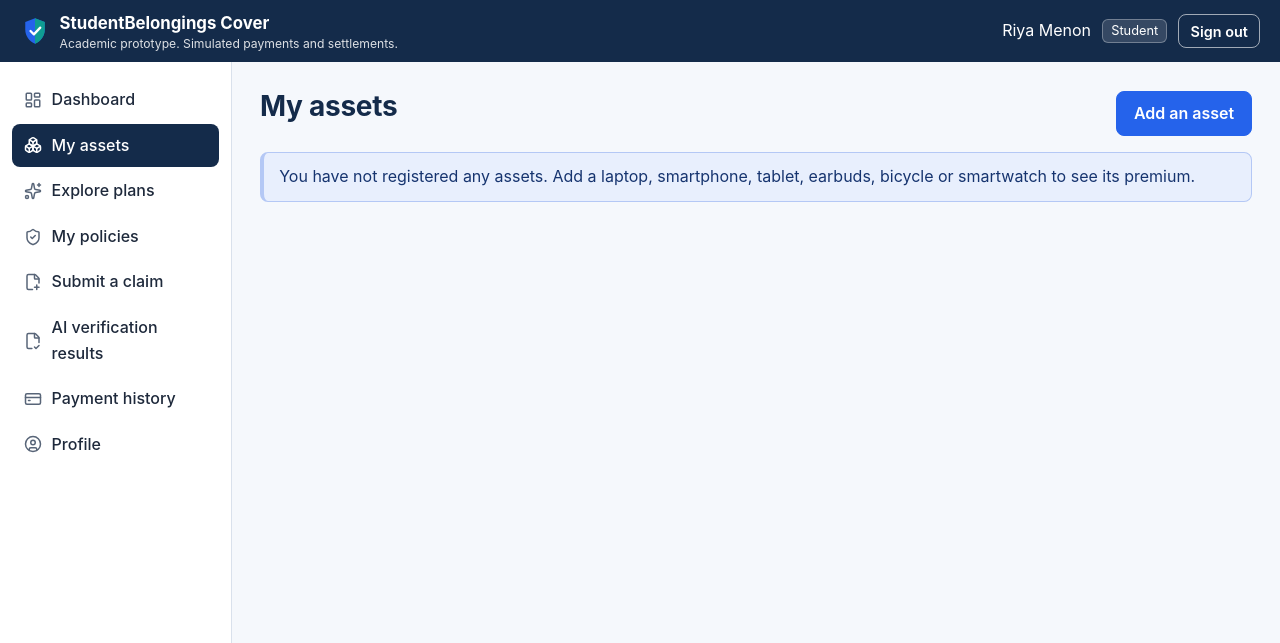
Scenario: asset registration and eligibility › explains why an asset below the minimum value is not eligible and blocks registration
Click the button "Add an asset" at (1184, 113), box [1116,91,1252,136]
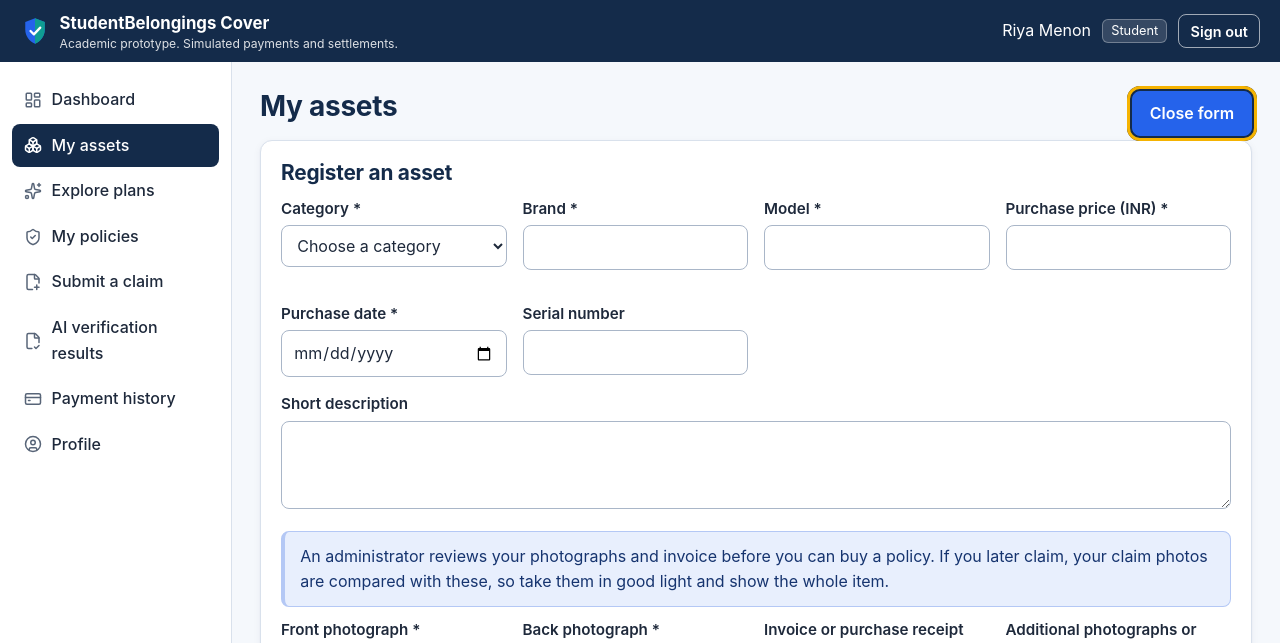
Select "Earbuds" in the dropdown labelled "Category *" at (394, 246), box [281,225,506,267]
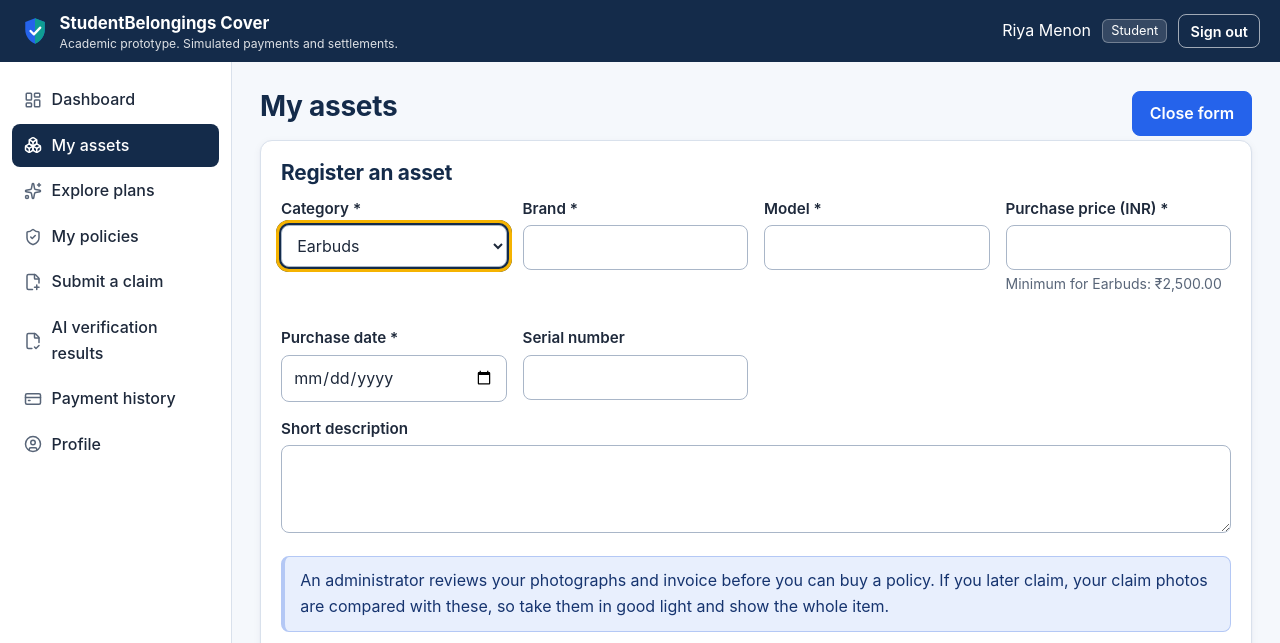
Type "1500" into the number field labelled "Purchase price (INR) *" at (1118, 248), box [1006,225,1231,270]
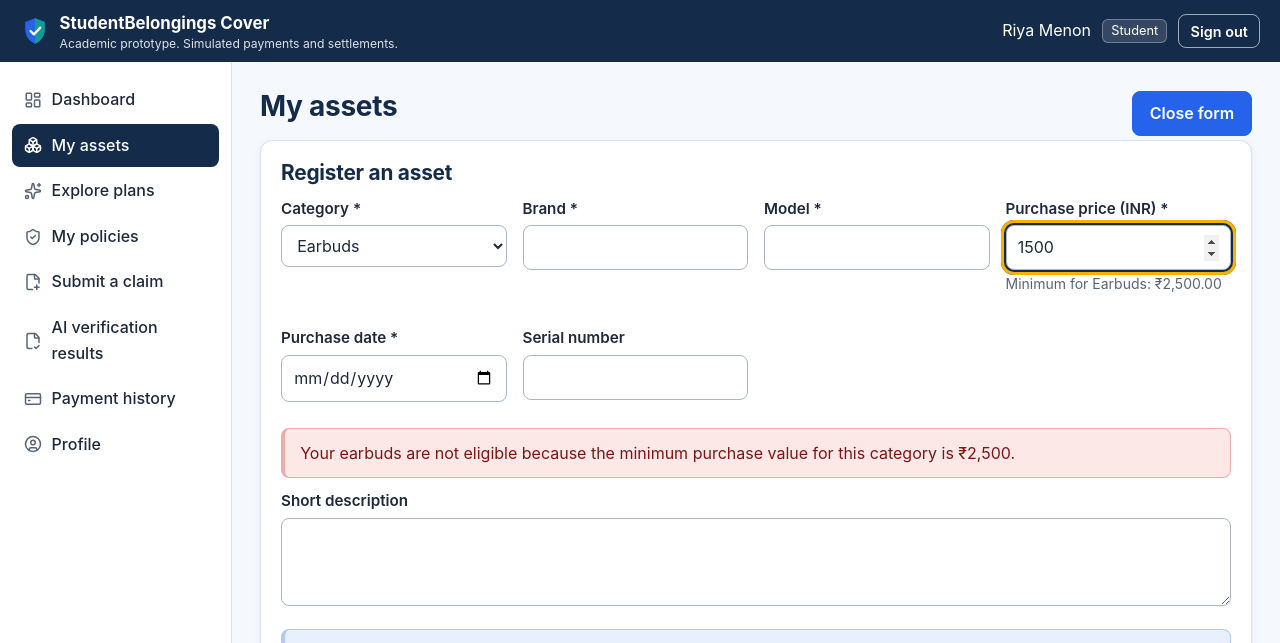
Replace the text in the number field labelled "Purchase price (INR) *" with "3000" at (1118, 248), box [1006,225,1231,270]
(page scrolled)
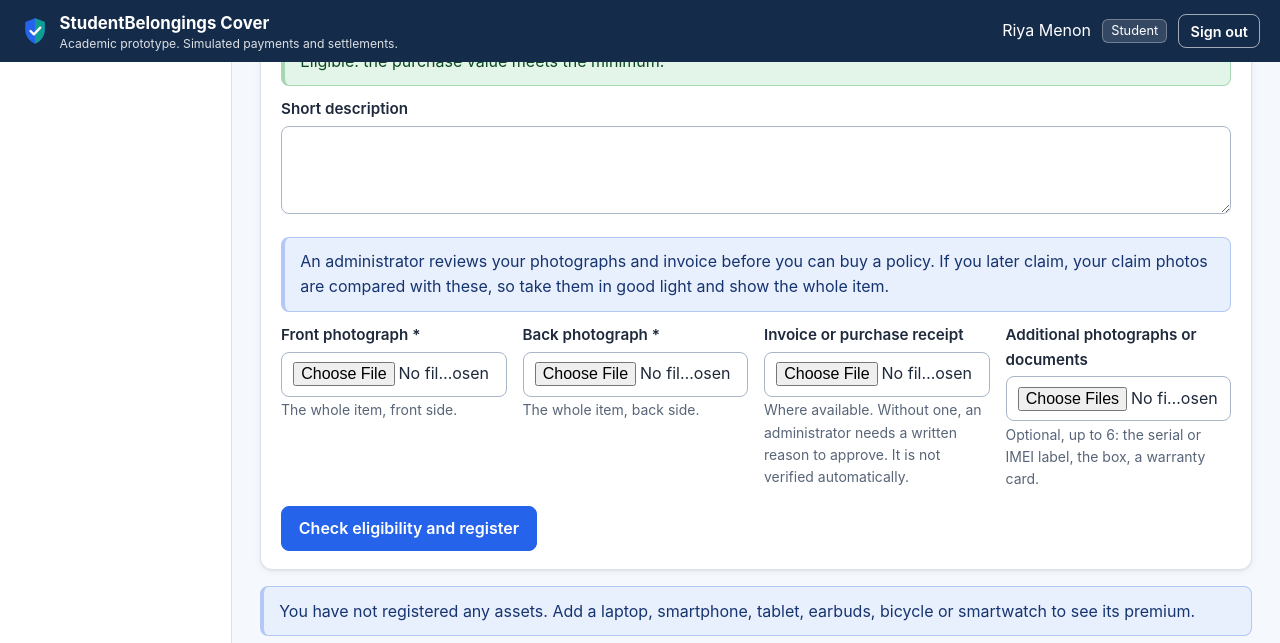
Check: the button "Check eligibility and register" is enabled, box [281,506,537,551]
Check: the text "Eligible: the purchase value meets the minimum." is shown, box [281,36,1231,86]
